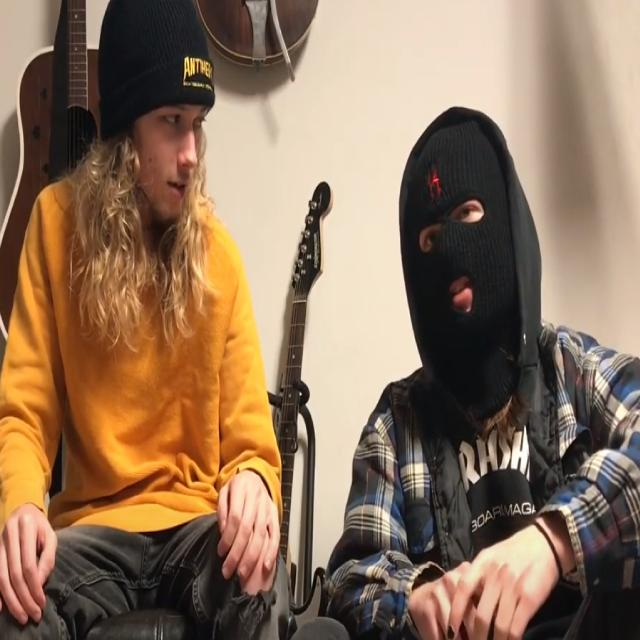hat: (102, 7, 214, 136)
